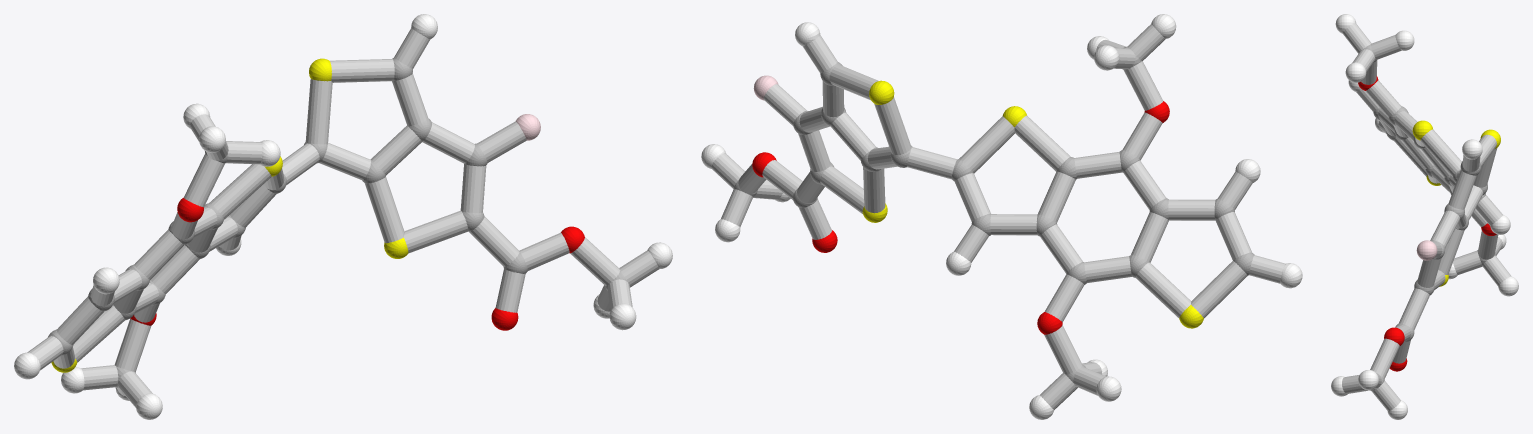
Rendered from Dimethoxy_Benzodithiophene_Phi_30_Theta_120_Methylcarbonyl_3_Fluoro_Thienothiophene.glb.
The picture shows the model from 3 angles, left to right: view 1: azimuth 30°, elevation 25°; view 2: azimuth 150°, elevation 25°; view 3: azimuth 270°, elevation 25°; orthographic projection. The views are drawn at different scales.
Parts seen in each view (by area): view 1: grp15205, grp8689, grp1, grp13395, grp7241; view 2: grp15205, grp8689, grp1, grp7241, grp13395; view 3: grp15205, grp8689, grp1, grp13395, grp7241, grp14843.
Boxes of the visible parts, bbox=[...] form: grp15205: bbox=[27, 28, 659, 407]; grp8689: bbox=[14, 14, 672, 419]; grp1: bbox=[48, 58, 629, 387]; grp13395: bbox=[130, 197, 584, 330]; grp7241: bbox=[51, 58, 408, 372]; grp15205: bbox=[711, 24, 1285, 409]; grp8689: bbox=[701, 14, 1302, 419]; grp1: bbox=[734, 46, 1254, 382]; grp7241: bbox=[862, 80, 1203, 328]; grp13395: bbox=[752, 101, 1169, 334]; grp15205: bbox=[1342, 23, 1511, 410]; grp8689: bbox=[1331, 14, 1518, 419]; grp1: bbox=[1363, 44, 1495, 390]; grp13395: bbox=[1358, 76, 1496, 371]; grp7241: bbox=[1412, 120, 1500, 286]; grp14843: bbox=[1416, 240, 1437, 260].
Bounding box in the file's own units: 16.58 × 8.74 × 5.47.
